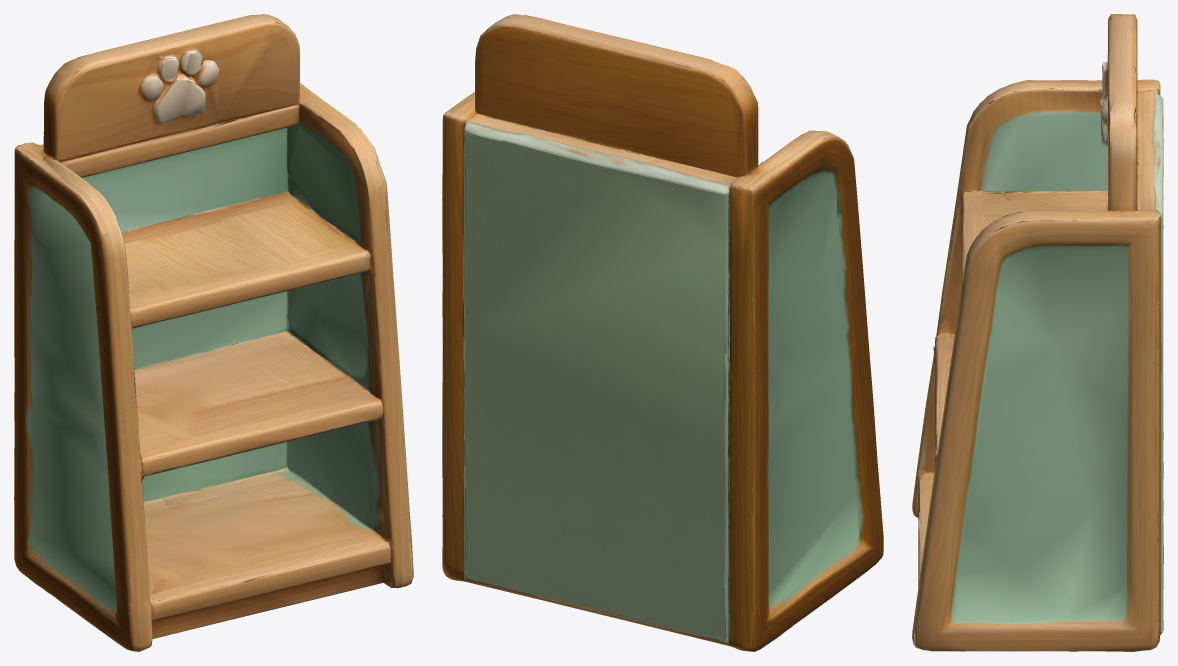
The model's file is P_SnackRack_h130.fbx.
The picture shows the model from 3 angles, left to right: view 1: azimuth 30°, elevation 25°; view 2: azimuth 150°, elevation 25°; view 3: azimuth 270°, elevation 25°; orthographic projection. The views are drawn at different scales.
Parts seen in each view (by area): view 1: P_SnackRack; view 2: P_SnackRack; view 3: P_SnackRack.
Boxes of the visible parts, x1=… form: P_SnackRack: x1=14, y1=14, x2=413, y2=651; P_SnackRack: x1=442, y1=14, x2=883, y2=651; P_SnackRack: x1=912, y1=14, x2=1163, y2=651.
Bounding box in the file's own units: 0.5839 × 1 × 0.437.
Materials: 1 (1 with a texture image).
